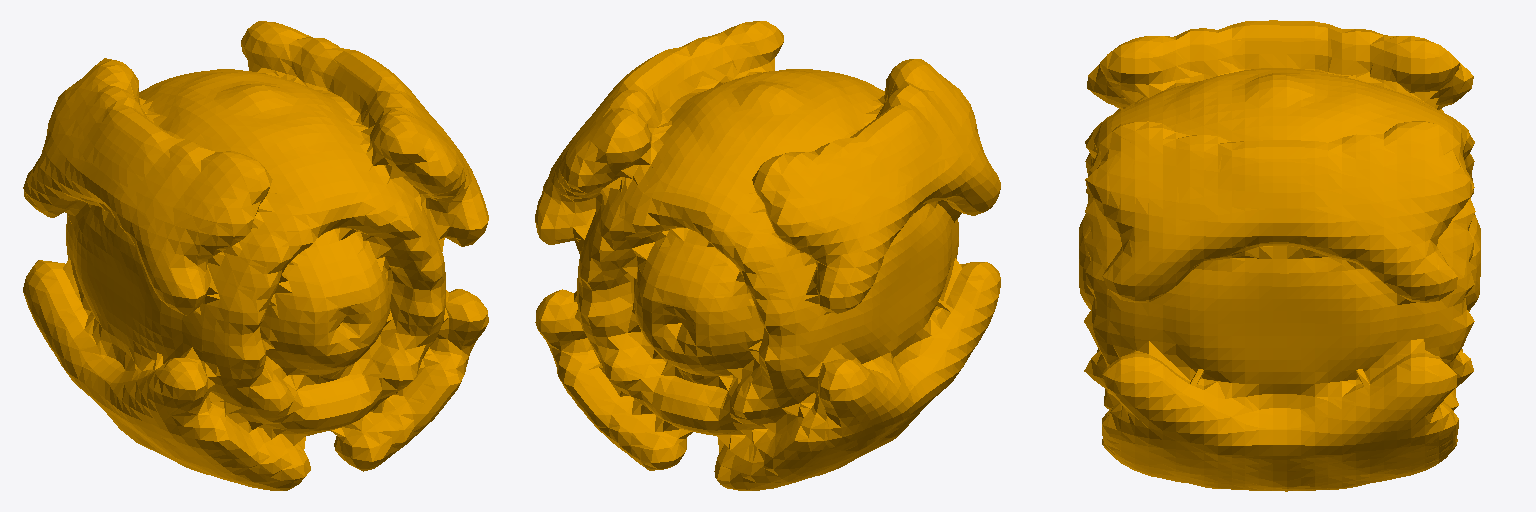
URDF robot description (object):
<?xml version="1.0"?>
        <robot name="object">
          <link name="object">
            <visual>
              <origin xyz="0.0 0.0 0.0"/>
              <geometry>
                <mesh filename="A6.stl" scale="1.00 1.00 1.00"/>
              </geometry>
            </visual>
            <collision>
              <origin xyz="0.0 0.0 0.0"/>
              <geometry>
                <mesh filename="A6.stl" scale="1.00 1.00 1.00"/>
              </geometry>
            </collision>
          </link>
        </robot>

--- Facts derived from the render (not from the file) ---
Views: 3 orthographic renders of the robot side by side, from view 1: azimuth 30°, elevation 25°; view 2: azimuth 150°, elevation 25°; view 3: azimuth 270°, elevation 25°.
Model object with 1 links and 0 joints (none), rooted at object, posed all joints at 0.
Links seen in each view (by area): view 1: object; view 2: object; view 3: object.
Link boxes in pixels (box(x1,y1,x2,y2)): object: box(23, 21, 488, 490); object: box(535, 21, 1000, 490); object: box(1079, 20, 1480, 491).
Bounding box of the posed robot: 0.1 × 0.099 × 0.0993 m (x, y, z).
1 mesh visuals loaded from 1 distinct referenced files (1 binary STL).